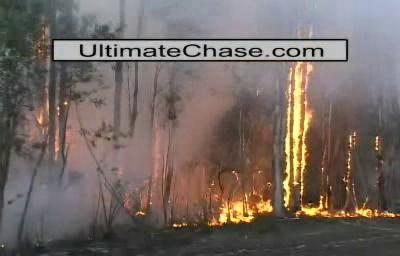fire: (288, 61, 307, 199), (217, 201, 280, 222)
smoke: (183, 3, 398, 36), (55, 141, 180, 195)
